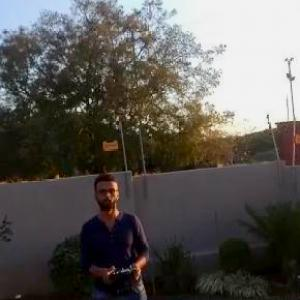follow: (77, 171, 164, 299)
